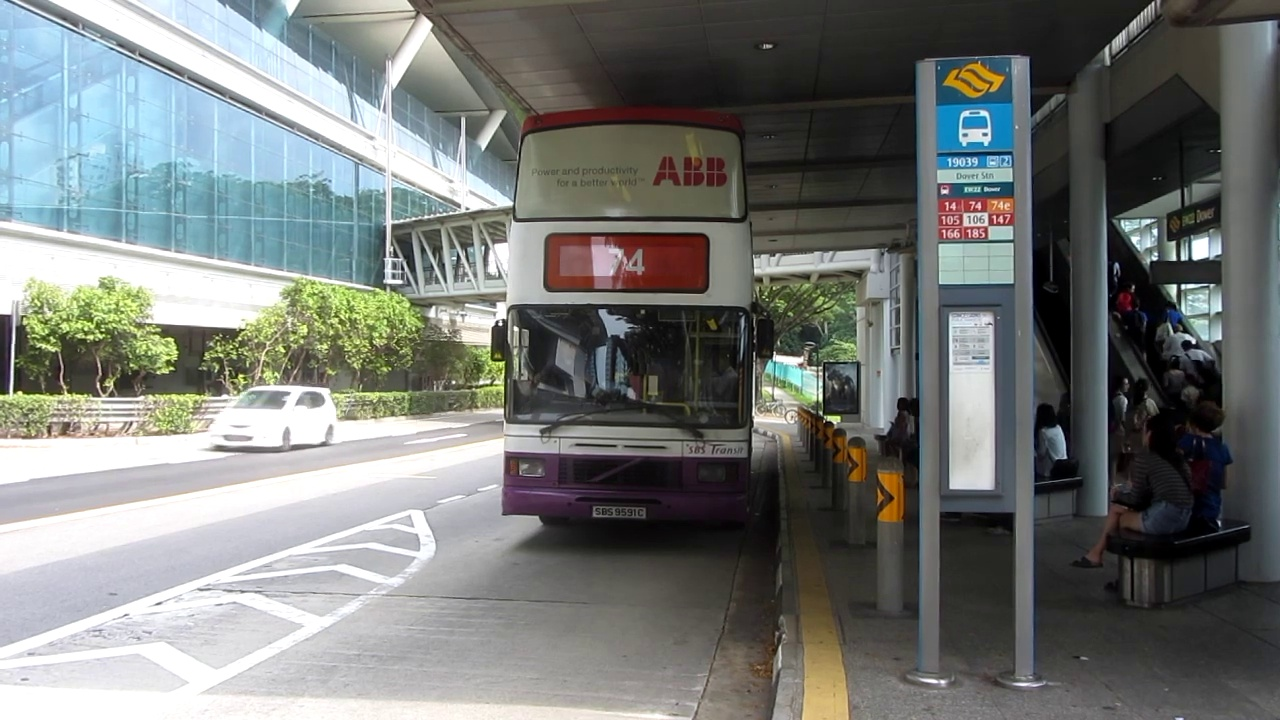bus panel: (542, 231, 711, 295)
